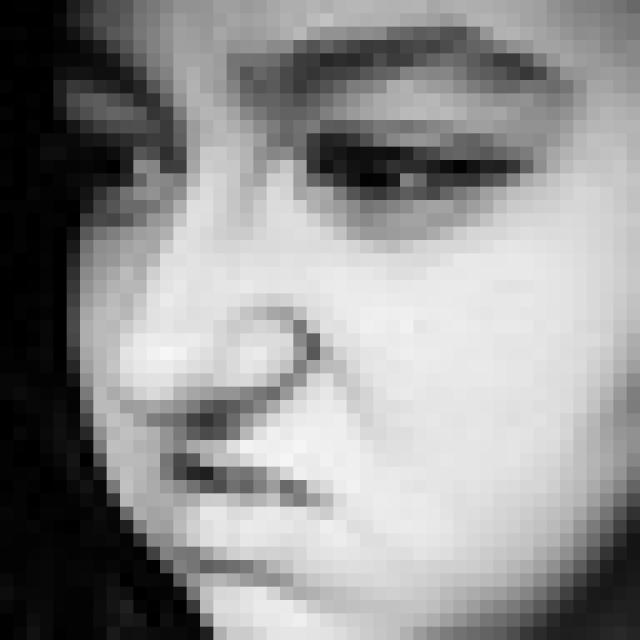disgust: (70, 22, 572, 579)
